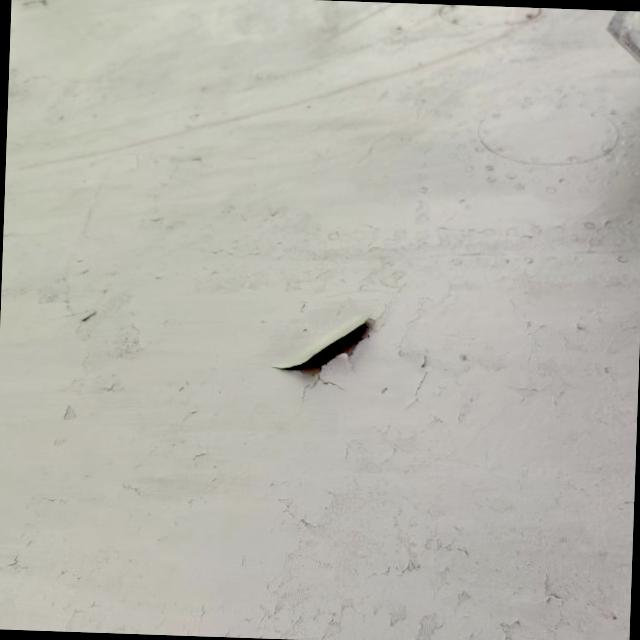paint-off: (260, 296, 390, 402)
